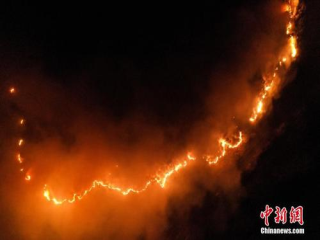fire: (12, 122, 227, 208), (242, 2, 308, 158)
